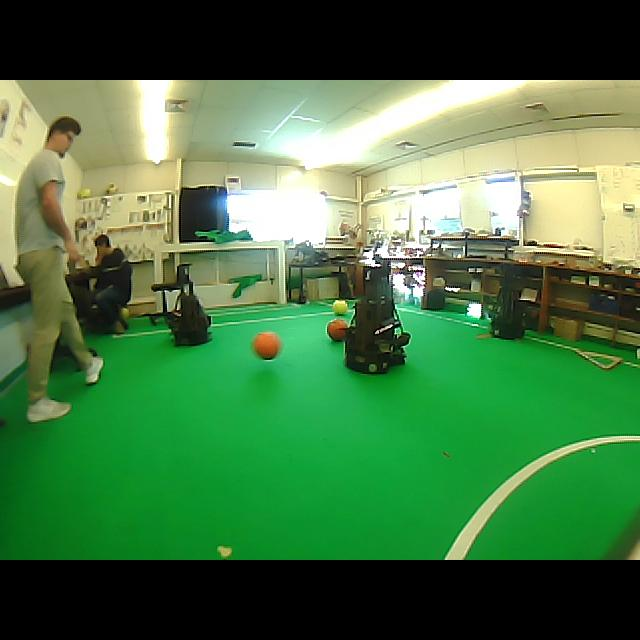ball: (253, 332, 281, 359), (327, 319, 347, 341), (119, 307, 129, 329), (332, 300, 347, 314), (78, 188, 92, 199), (105, 184, 119, 194)
goal: (278, 241, 286, 303)
robot: (345, 265, 410, 373), (168, 264, 209, 345), (491, 265, 525, 338)
